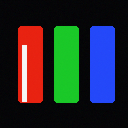4 line_v: (22, 45, 26, 101)
